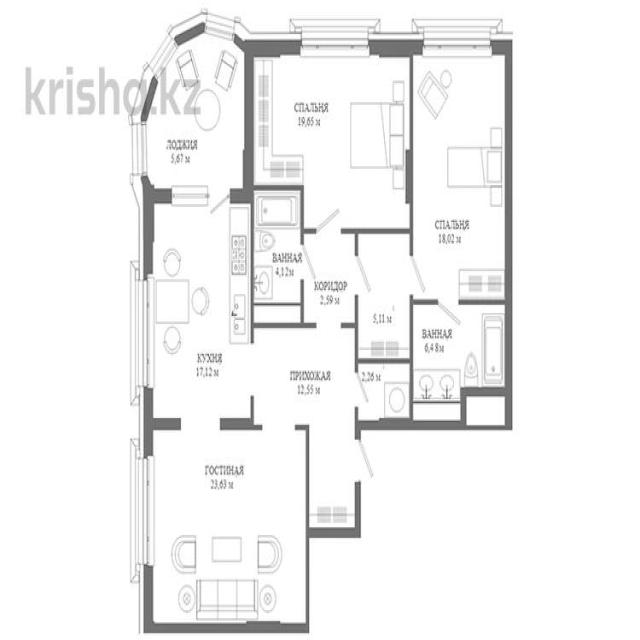balcony: (145, 33, 243, 189)
bathroom: (413, 302, 508, 402), (254, 187, 302, 324)
hallway: (255, 332, 353, 427), (304, 235, 354, 322), (313, 429, 356, 526)
kitchen: (148, 203, 253, 423)
living_room: (150, 430, 308, 627), (412, 52, 506, 298), (252, 57, 409, 192)
other: (359, 366, 408, 420)
